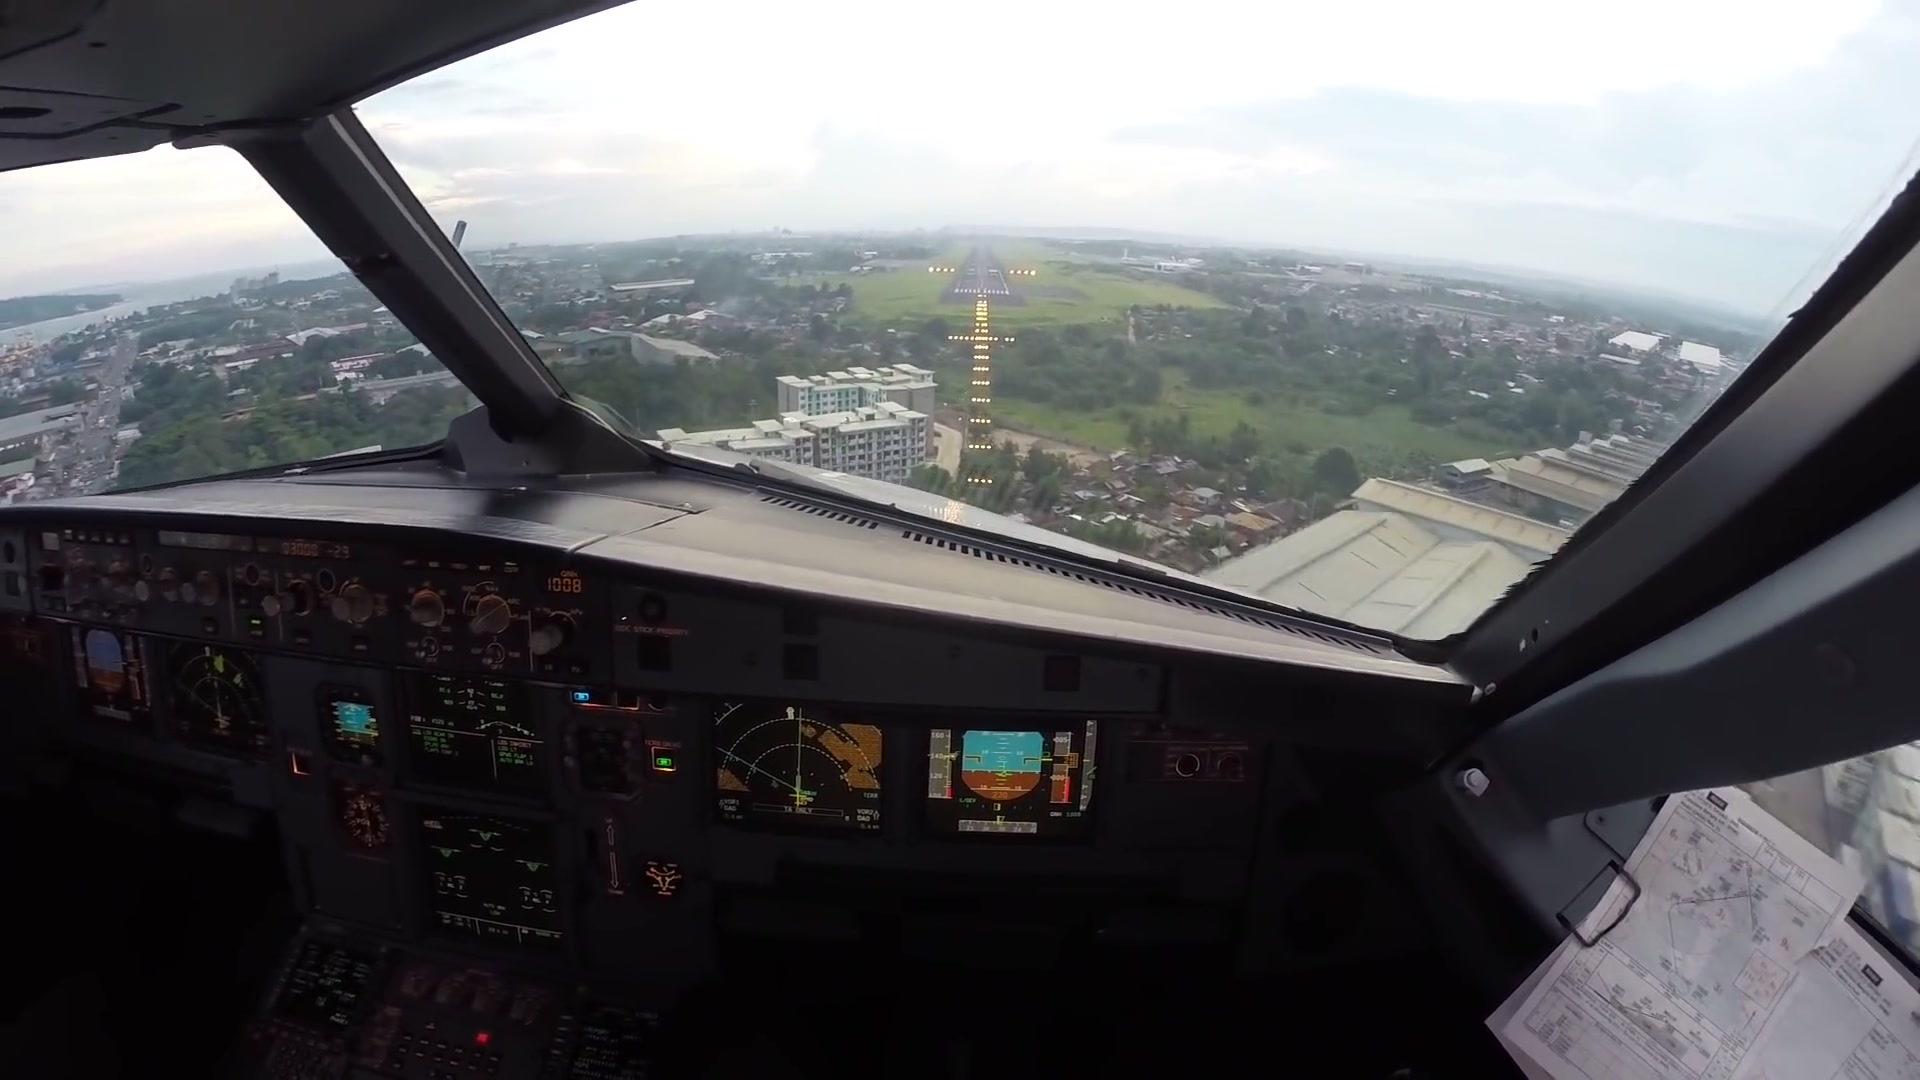entrance: (953, 284, 1009, 297)
runway: (943, 251, 1026, 306)
